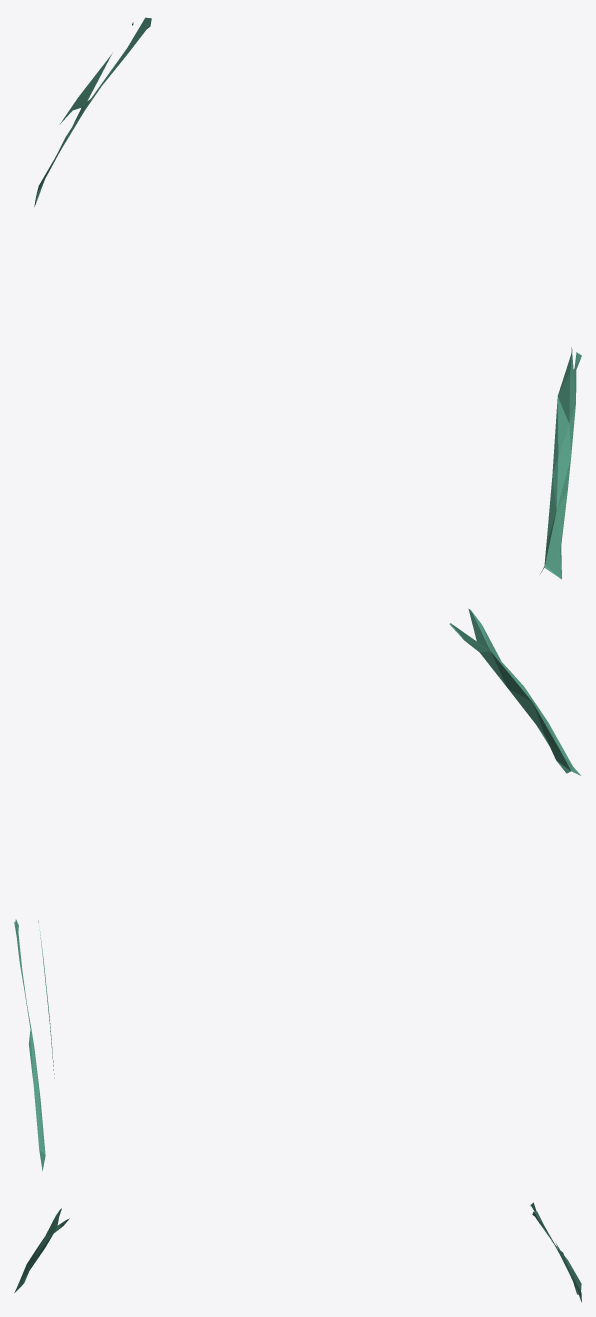
3 renders of one model, top to bottom at view 1: azimuth 30°, elevation 25°; view 2: azimuth 150°, elevation 25°; view 3: azimuth 270°, elevation 25°, orthographic. The views are drawn at different scales.
Visible parts, largest first — view 1: 680.obj; view 2: 680.obj; view 3: 680.obj.
Part boxes in pixels (x1,y1,x2,y2): 680.obj: (34,17,581,579); 680.obj: (14,608,580,1170); 680.obj: (14,1202,581,1302).
Size of the model in its own units: 242 by 524 by 2352.
